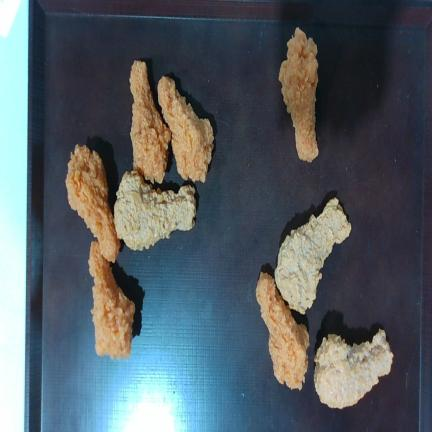chicken: (275, 198, 351, 313), (114, 171, 196, 250), (65, 145, 120, 262), (314, 329, 393, 409), (256, 272, 309, 389), (158, 76, 213, 182), (88, 241, 135, 358), (279, 28, 318, 162), (130, 61, 171, 183)
